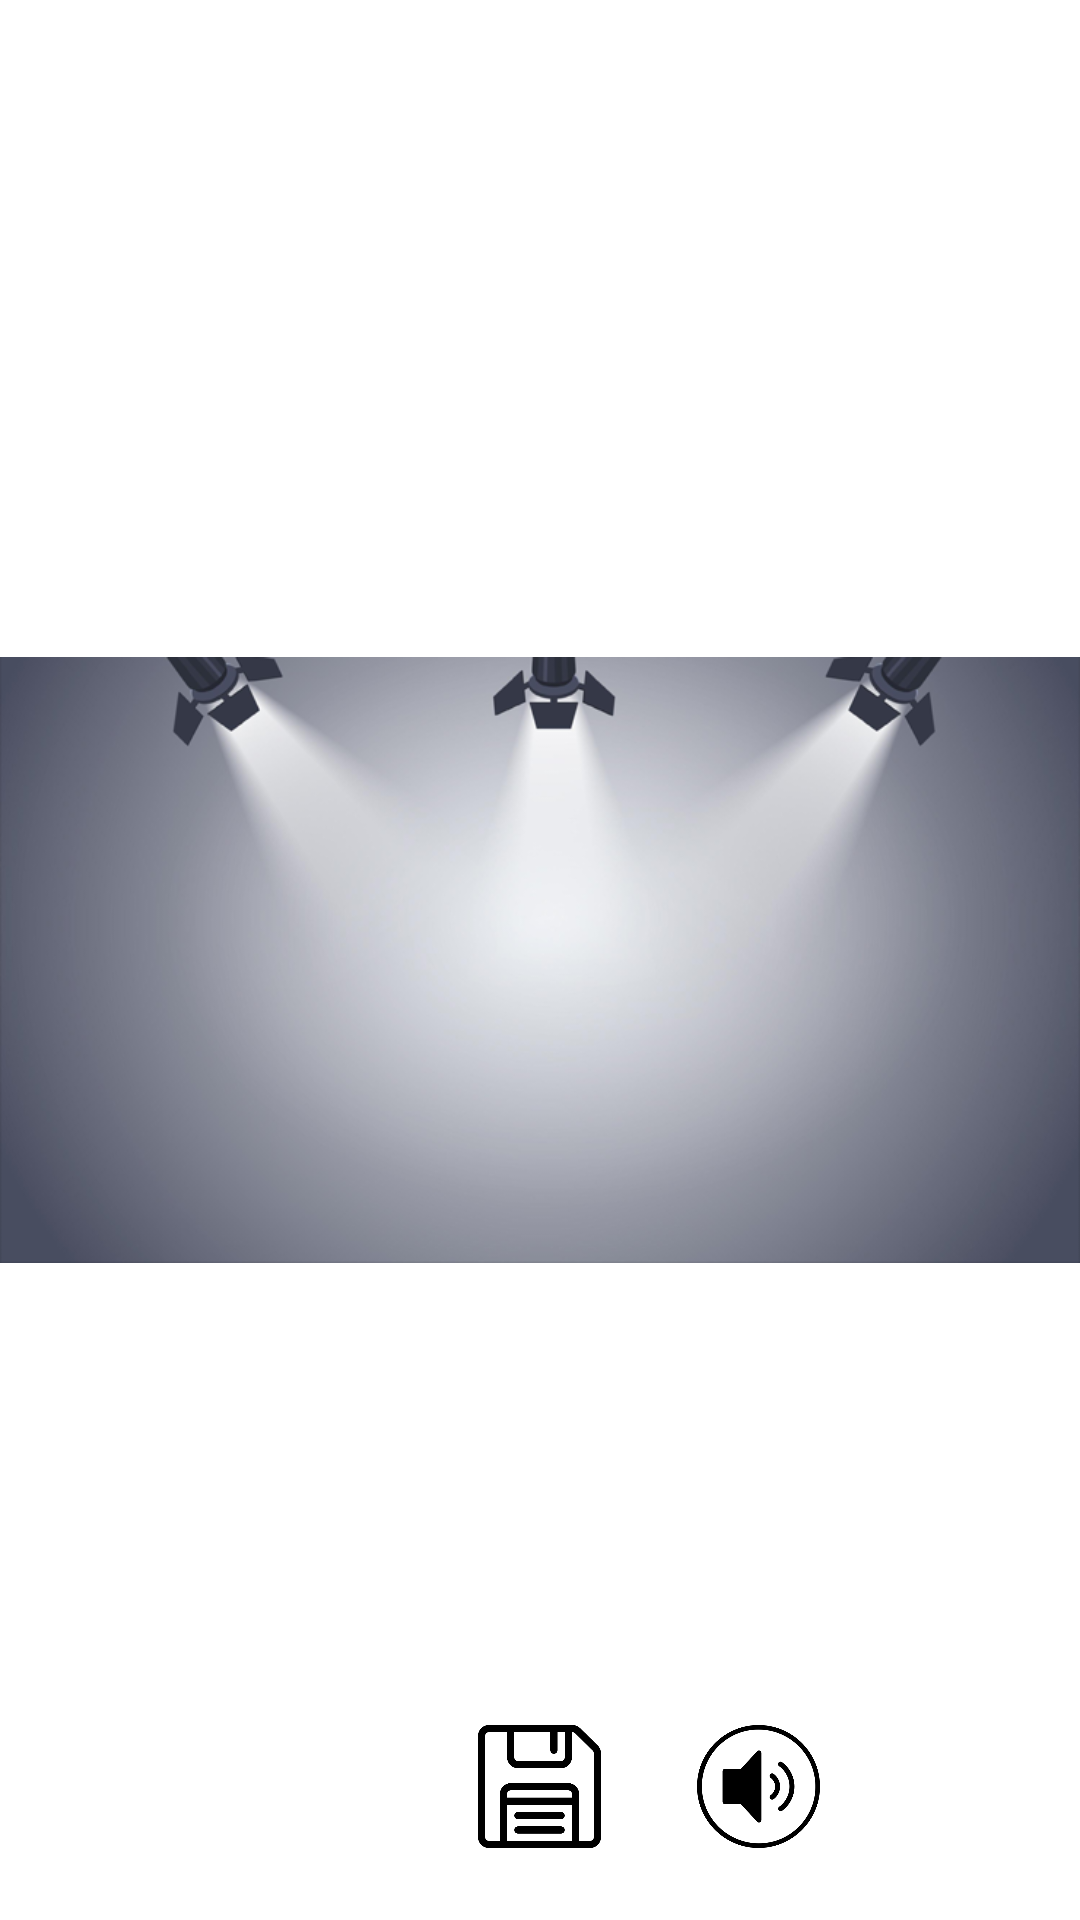

Named icons in this screenshot (1080 × 1920) and their centers, (x=x, y=y):
savenegro: (x=539, y=1786)
toggle sound modern: (x=758, y=1786)
